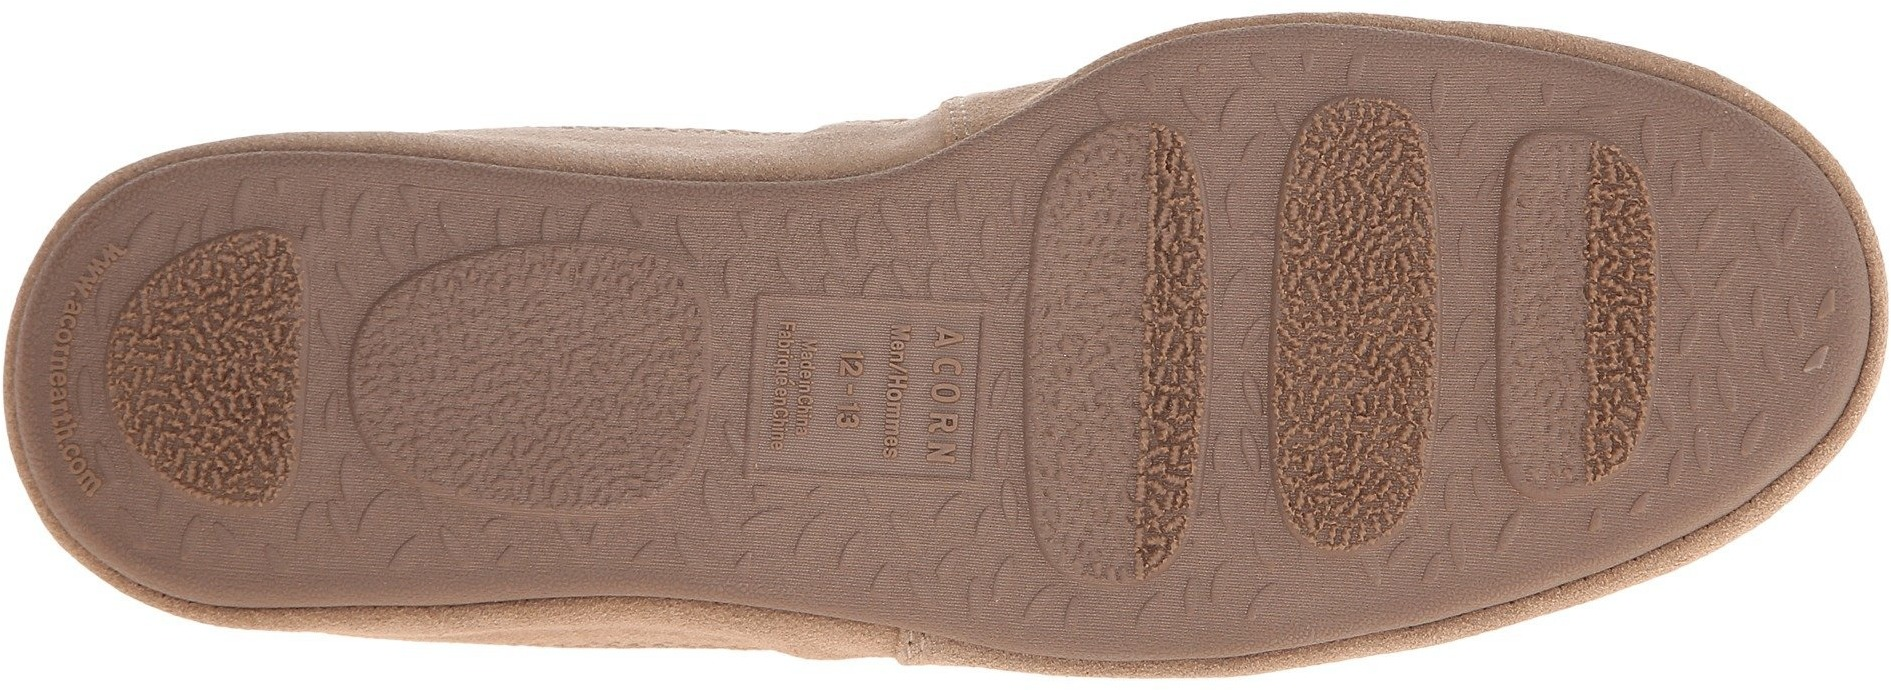other: (449, 267, 678, 484), (133, 287, 301, 440), (1041, 355, 1204, 505), (1042, 172, 1200, 327), (1290, 169, 1428, 299), (1288, 309, 1422, 439), (1512, 185, 1643, 305), (1509, 318, 1643, 435)
quad: (727, 267, 1006, 517), (1659, 222, 1842, 394)
text: (920, 321, 977, 384), (914, 408, 971, 470), (827, 396, 871, 438), (832, 343, 872, 382)
